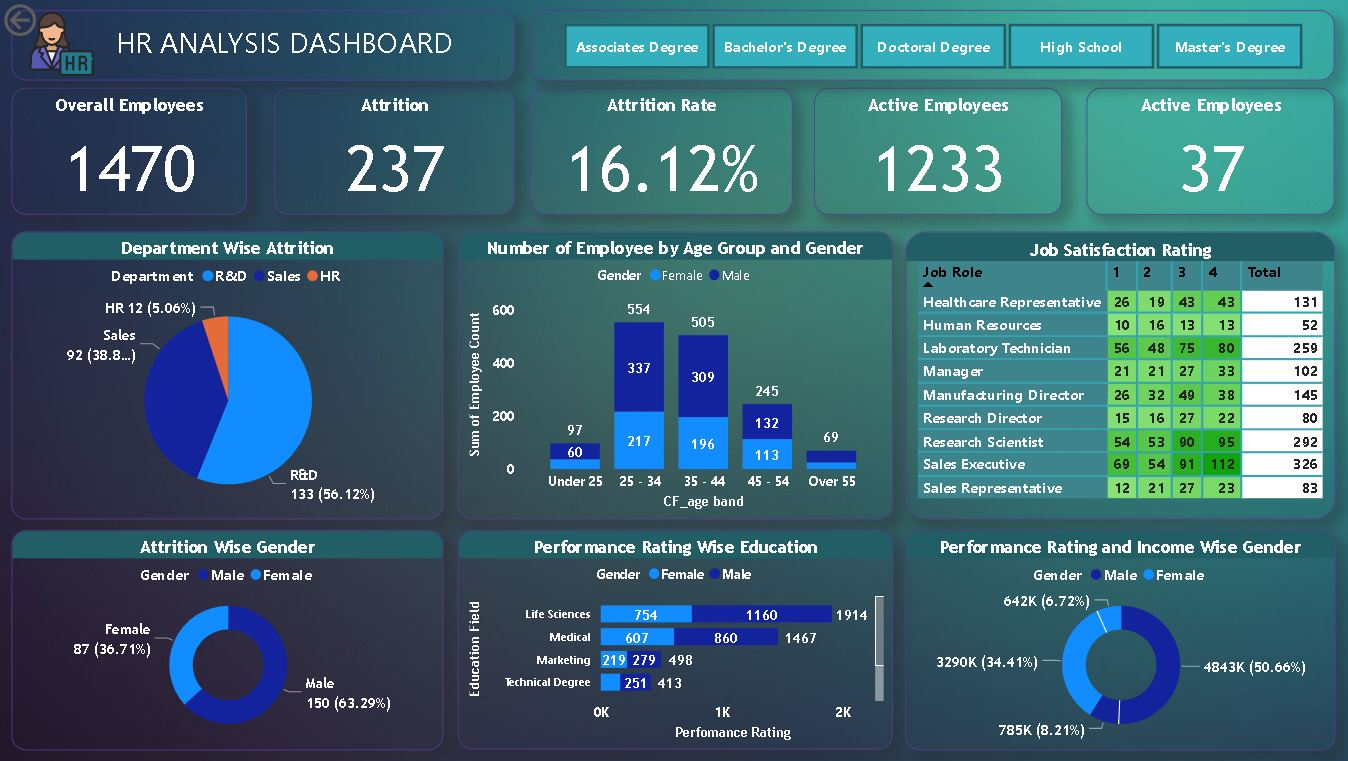

The dashboard page shown, as its layout file describes it:
{"tool":"powerbi","page":{"name":"Page 1","canvas":[1280,720],"ordinal":0},"visuals":[{"type":"card","title":"Overall Employees","fields":{"Values":["CountNonNull(HR data.Employee Count)"]},"box":[12,84.3,222.7,120.4],"z":0},{"type":"card","title":"Attrition","fields":{"Values":["Sum(HR data.Attrition Count)"]},"box":[260.3,84.3,227.2,120.4],"z":1000},{"type":"card","title":"Attrition Rate","fields":{"Values":["HR data.Attrition Rate"]},"box":[502.5,84.3,248.2,120.4],"z":2000},{"type":"card","title":"Active Employees","fields":{"Values":["HR data.Active Employees"]},"box":[770.3,84.3,234.7,120.4],"z":3000},{"type":"card","title":"Average Age of Employees","fields":{"Values":["Avg(HR data.Age)"]},"box":[1027.6,84.3,234.7,120.4],"z":4000},{"type":"pieChart","title":"Department Wise Attrition","fields":{"Y":["Sum(HR data.Attrition Count)"],"Category":["HR data.Department"]},"box":[12,219.7,407.7,272.3],"z":5000},{"type":"columnChart","title":"Number of Employee by Age Group and Gender","fields":{"Category":["HR data.CF_age band"],"Y":["Sum(HR data.Employee Count)"],"Series":["HR data.Gender"]},"box":[433.2,219.6,411.4,271.8],"z":6000},{"type":"pivotTable","title":"Job Satisfaction Rating","fields":{"Rows":["HR data.Job Role"],"Columns":["HR data.Job Satisfaction"],"Values":["Sum(HR data.Employee Count)"]},"box":[856,219.7,406.2,272.3],"z":7000},{"type":"barChart","title":"Performance Rating Wise Education","fields":{"Category":["HR data.Education Field"],"Y":["Sum(HR data.Performance Rating)"],"Series":["HR data.Gender"]},"box":[433.2,502.4,411.4,207.5],"z":8000},{"type":"donutChart","title":"Attrition Wise Gender","fields":{"Category":["HR data.Gender"],"Y":["Sum(HR data.Attrition Count)"]},"box":[12,502.5,407.7,207.6],"z":9000},{"type":"donutChart","title":"Performance Rating and Income Wise Gender","fields":{"Y":["Sum(HR data.Monthly Income)"],"Category":["HR data.Gender"],"Series":["HR data.Performance Rating"]},"box":[856,502.5,406.2,207.6],"z":10000},{"type":"textbox","box":[12,10.5,475.4,66.2],"z":11000},{"type":"slicer","title":"Education","fields":{"Values":["HR data.Education"]},"box":[502.5,10.5,759.8,66.2],"z":12000},{"type":"image","box":[12,7.5,94.8,70.7],"z":13000},{"type":"actionButton","box":[0,0,100,40],"z":14000}]}

Visuals, with their boxes in screenshot pixels (x1, y1, x2, y2), scaled from the page's 1280x720 canvas onto the 1348x761 screenshot:
"Overall Employees" card: [x1=13, y1=89, x2=247, y2=216]
"Attrition" card: [x1=274, y1=89, x2=513, y2=216]
"Attrition Rate" card: [x1=529, y1=89, x2=791, y2=216]
"Active Employees" card: [x1=811, y1=89, x2=1058, y2=216]
"Average Age of Employees" card: [x1=1082, y1=89, x2=1329, y2=216]
"Department Wise Attrition" pieChart: [x1=13, y1=232, x2=442, y2=520]
"Number of Employee by Age Group and Gender" columnChart: [x1=456, y1=232, x2=889, y2=519]
"Job Satisfaction Rating" pivotTable: [x1=901, y1=232, x2=1329, y2=520]
"Performance Rating Wise Education" barChart: [x1=456, y1=531, x2=889, y2=750]
"Attrition Wise Gender" donutChart: [x1=13, y1=531, x2=442, y2=751]
"Performance Rating and Income Wise Gender" donutChart: [x1=901, y1=531, x2=1329, y2=751]
textbox: [x1=13, y1=11, x2=513, y2=81]
"Education" slicer: [x1=529, y1=11, x2=1329, y2=81]
image: [x1=13, y1=8, x2=112, y2=83]
actionButton: [x1=0, y1=0, x2=105, y2=42]
